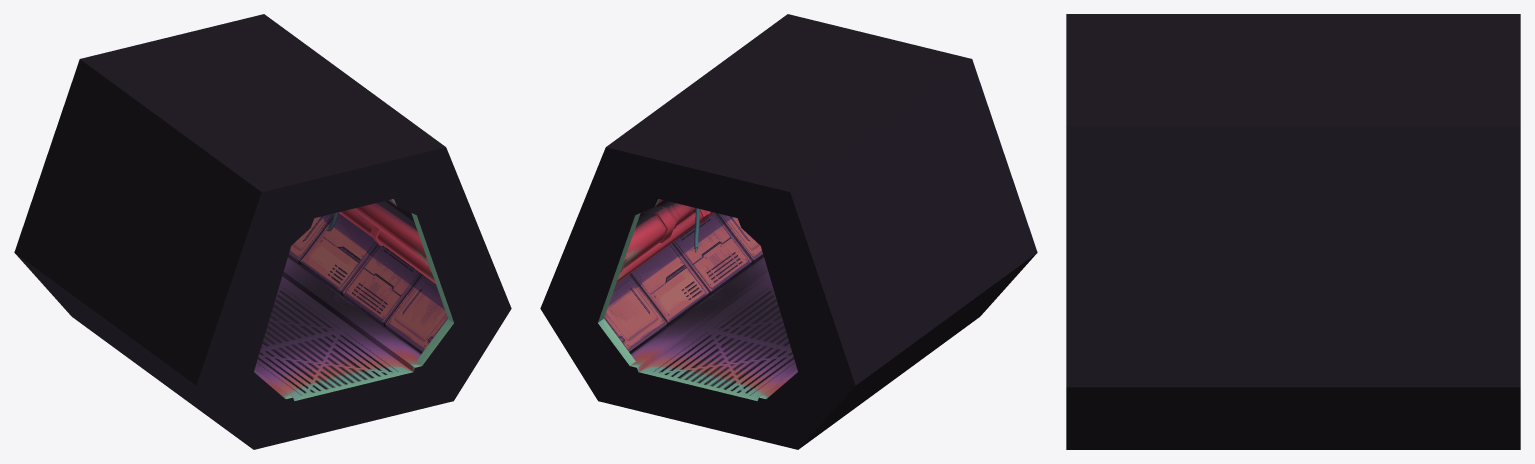
The model's file is mod_Straight_2.glb.
3 renders of one model, left to right at view 1: azimuth 30°, elevation 25°; view 2: azimuth 150°, elevation 25°; view 3: azimuth 270°, elevation 25°, orthographic. The views are drawn at different scales.
Visible parts, largest first — view 1: Plane.025, BézierCurve.134; view 2: Plane.025, BézierCurve.134; view 3: Plane.025.
Part boxes in pixels (x1,y1,x2,y2): Plane.025: [14, 14, 511, 449]; BézierCurve.134: [338, 201, 435, 283]; Plane.025: [540, 14, 1037, 449]; BézierCurve.134: [616, 201, 713, 283]; Plane.025: [1066, 14, 1520, 449].
Size of the model in its own units: 5 by 3.88 by 5.
2 materials, 2 textured.
